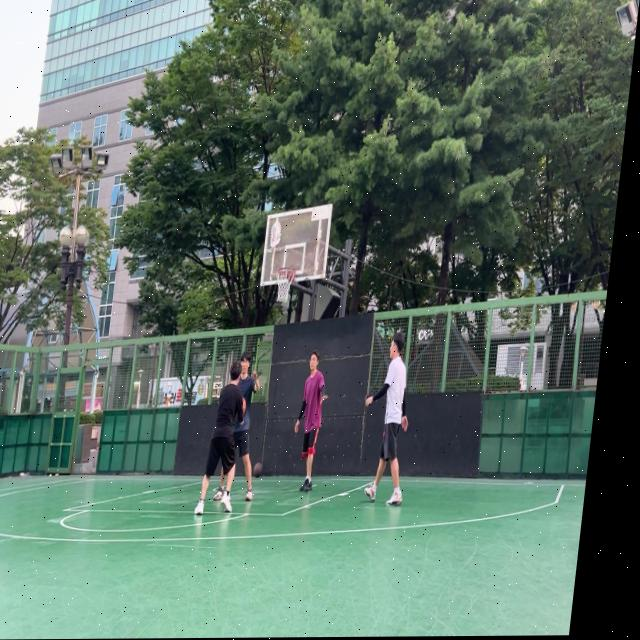basketball: (235, 396, 246, 420), (252, 462, 264, 478)
hoop: (272, 267, 296, 303)
